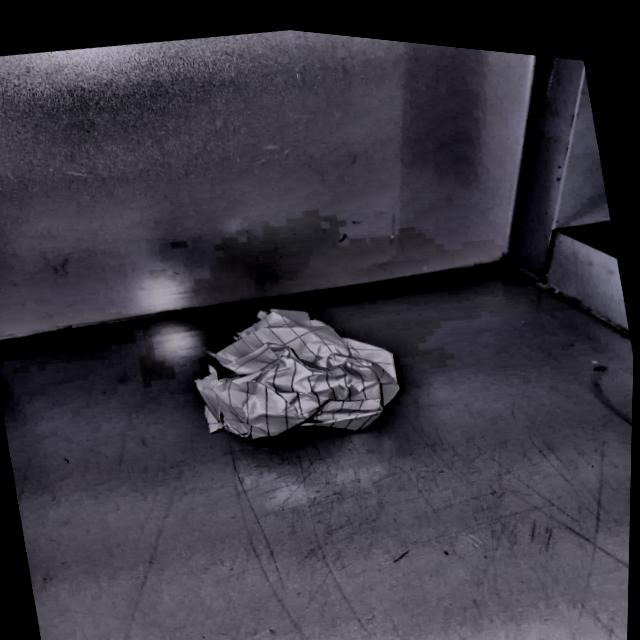Paper: (180, 268, 423, 463)
